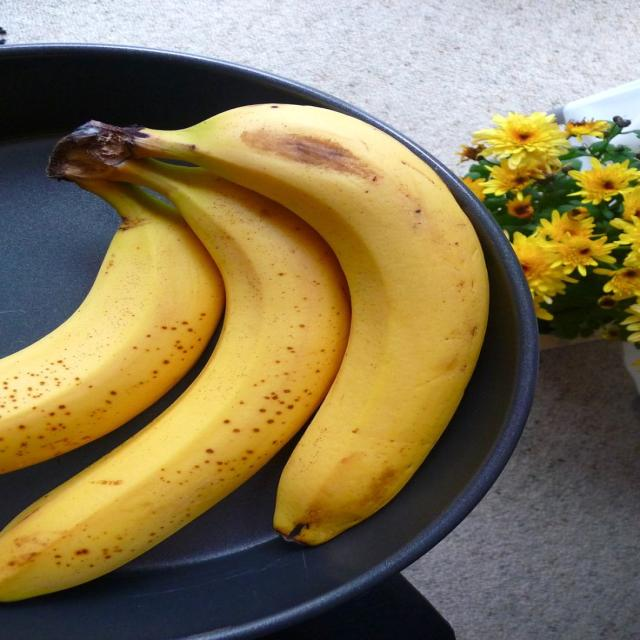unpeal banana: (61, 104, 488, 544), (0, 161, 349, 601), (0, 181, 224, 473)
